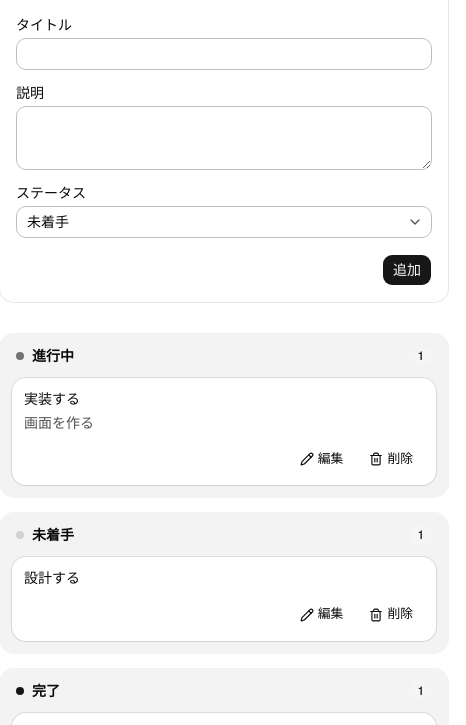
Scenario: 追加 › ステータスを選んで追加すると、そのステータスの列に表示される
Type "確認する" into the field labelled "タイトル" at (224, 54), box x1=16 y1=38 x2=432 y2=70
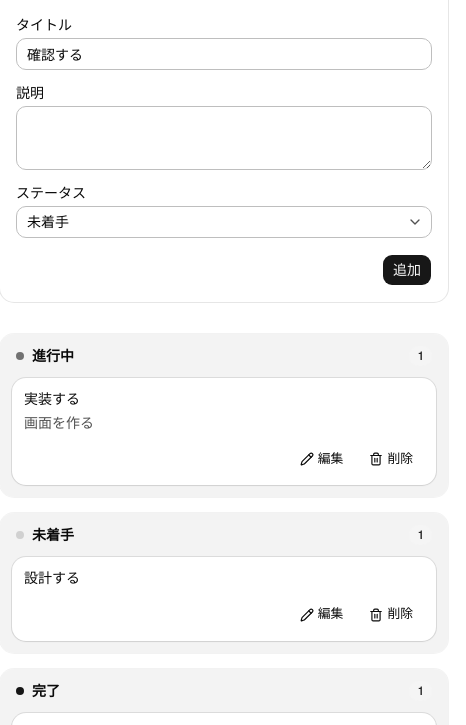
Click the dropdown named "ステータス" at (48, 222), box x1=16 y1=206 x2=432 y2=238
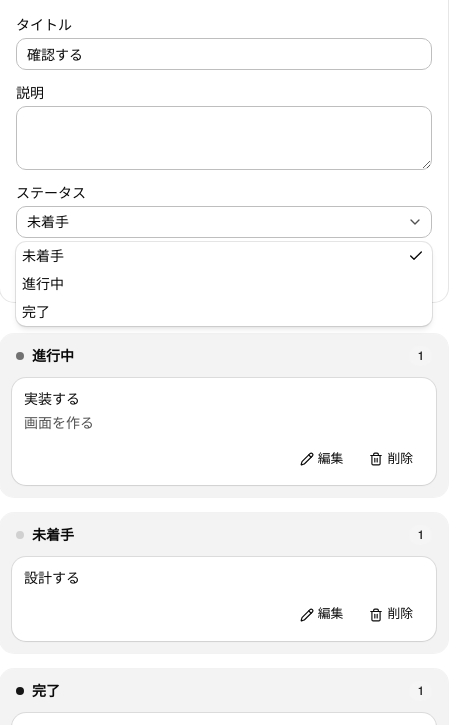
Press the mouse on the option "完了" at (36, 312), box x1=22 y1=303 x2=50 y2=321
Click the option "完了" at (36, 312), box x1=22 y1=303 x2=50 y2=321
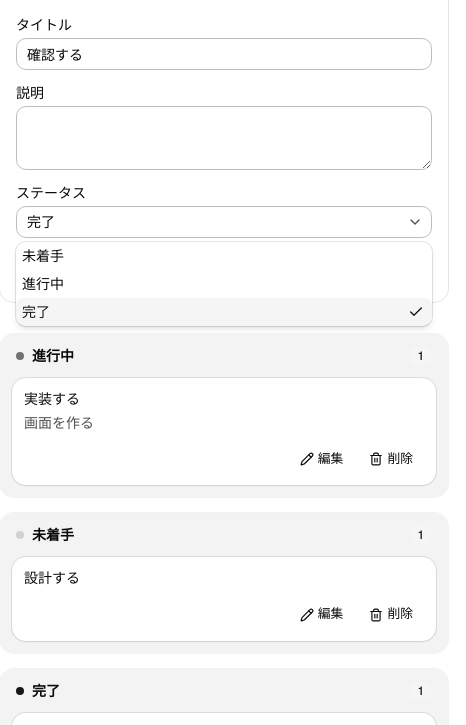
Click the button "追加" at (407, 270), box x1=382 y1=254 x2=432 y2=286
(page scrolled)
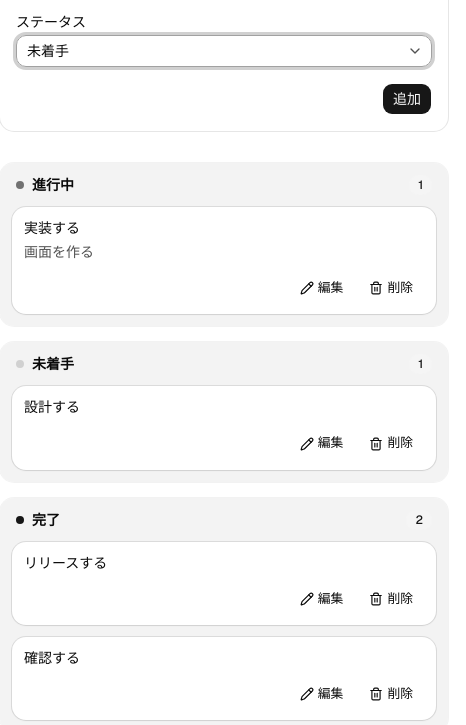
expect the heading "確認する" is shown: met, box x1=24 y1=649 x2=80 y2=667
